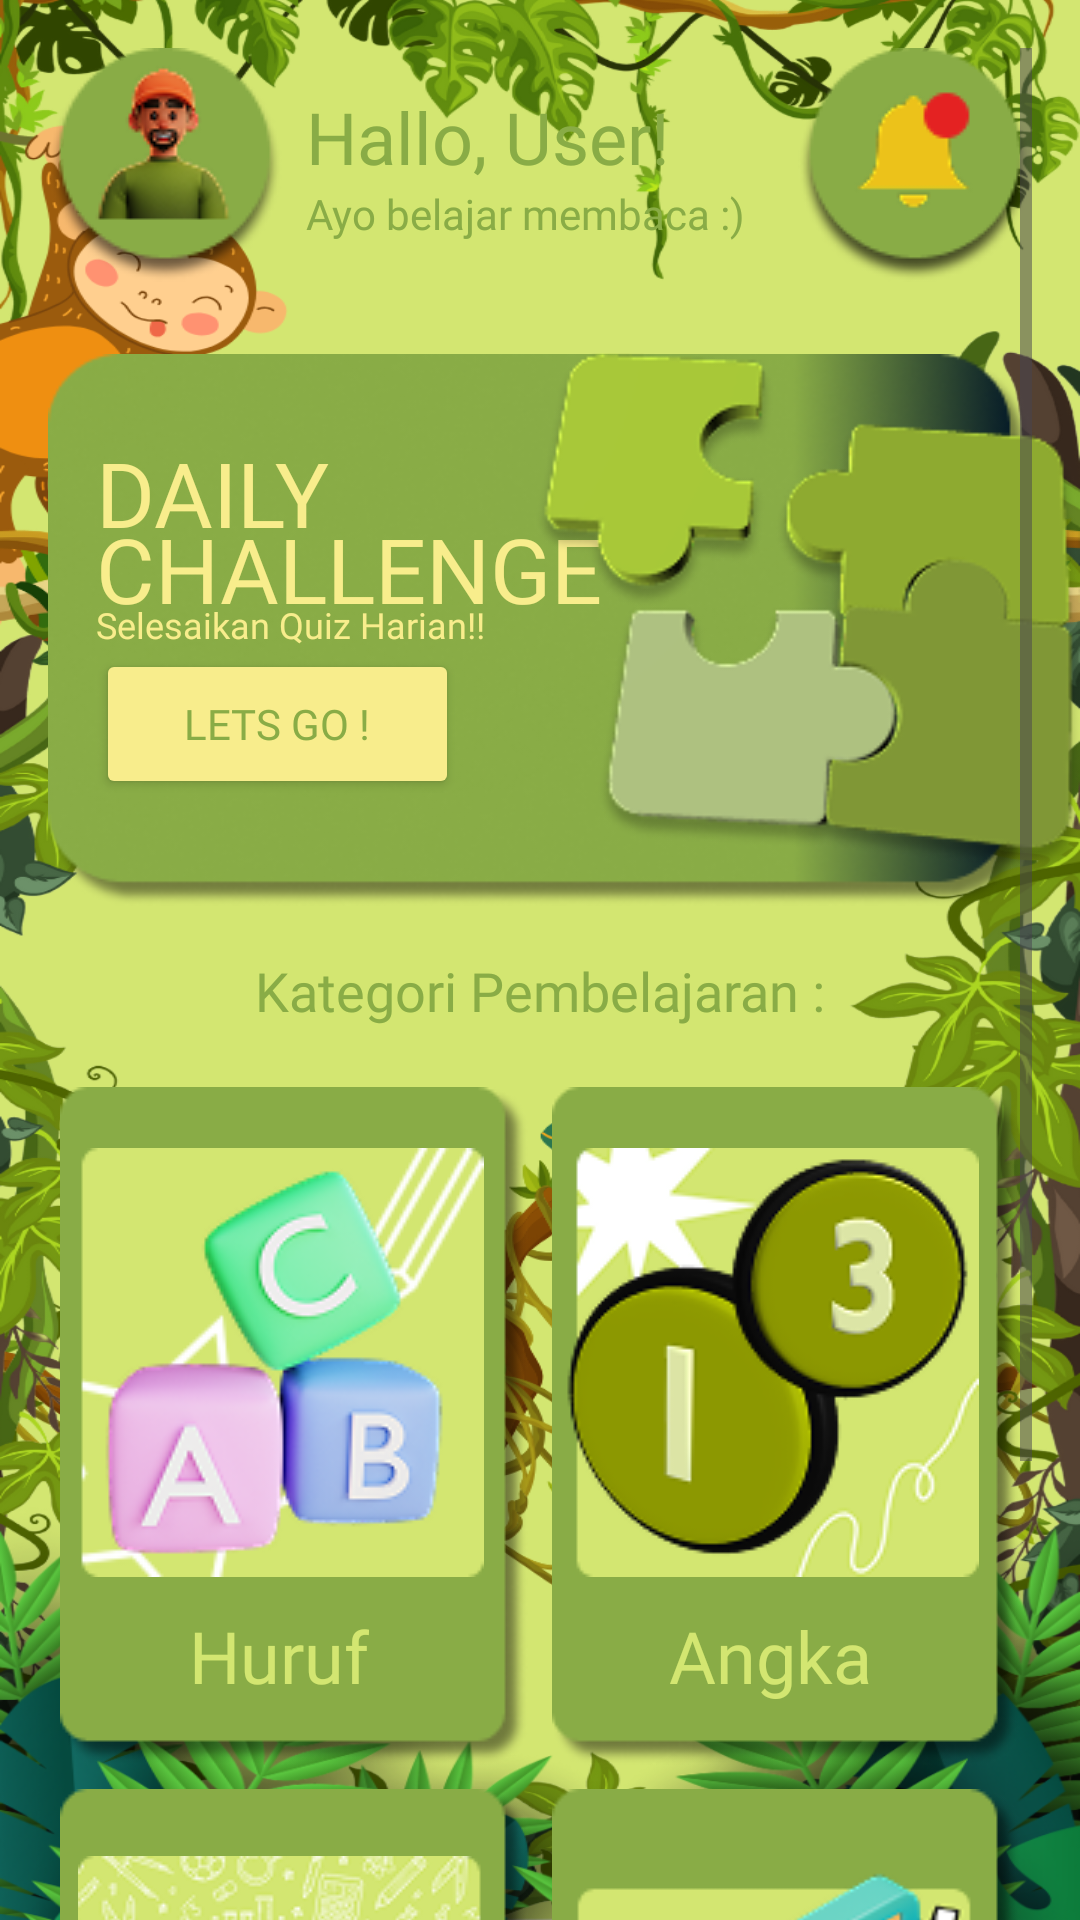

Named icons in this screenshot (1080x1920) and their centers, [x,y]:
notif: [915,165]
Profil: [165,165]
